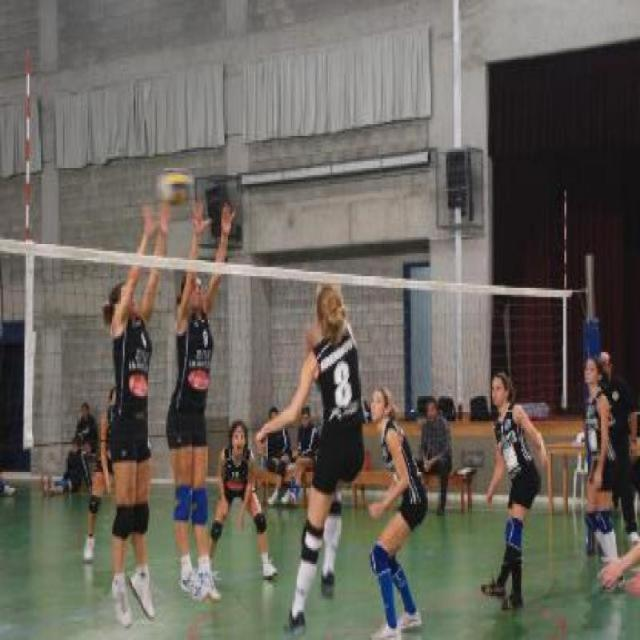volleyball: (157, 163, 194, 204)
